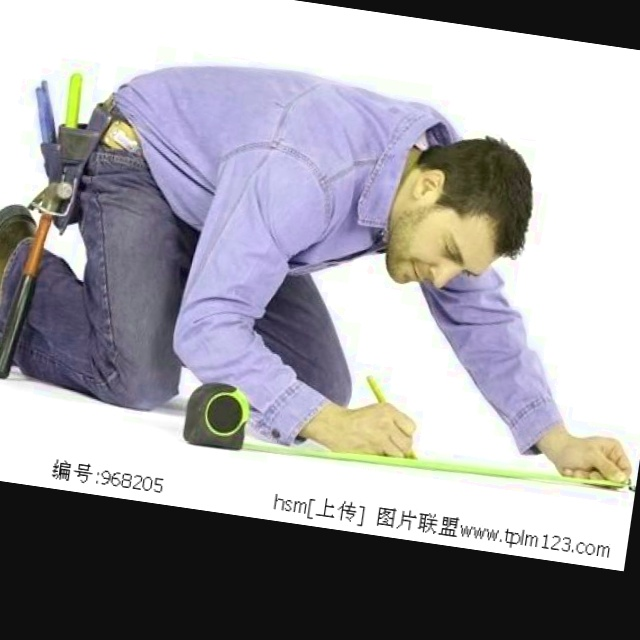Sin_Casco_Mascarrilla: (383, 124, 543, 302)
